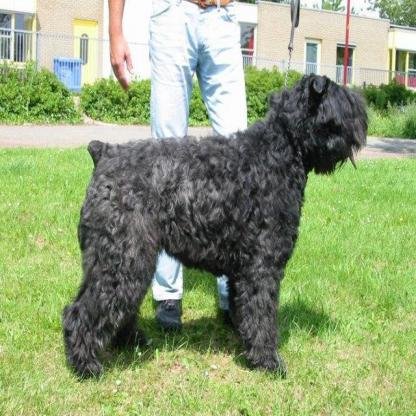Bouvier_des_Flandres: (56, 70, 368, 382)
